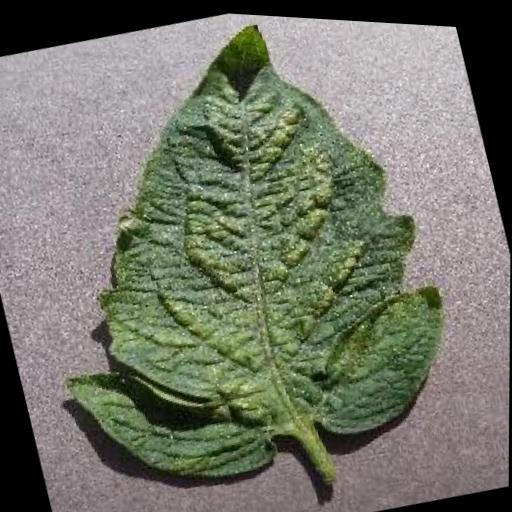Spider Mites: (0, 0, 473, 512)
